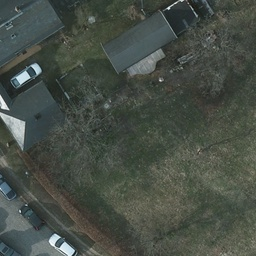car: (10, 62, 43, 89), (18, 202, 45, 229), (50, 234, 79, 256), (1, 168, 16, 201)
